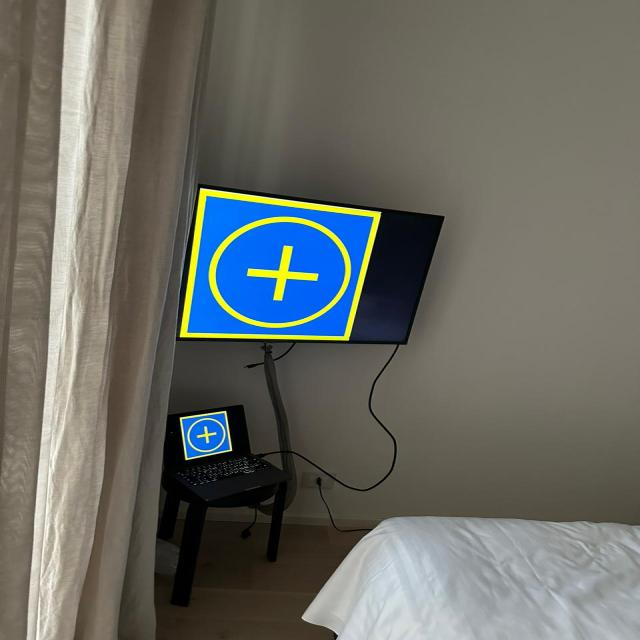Marker: (178, 185, 380, 341), (179, 411, 233, 460)
